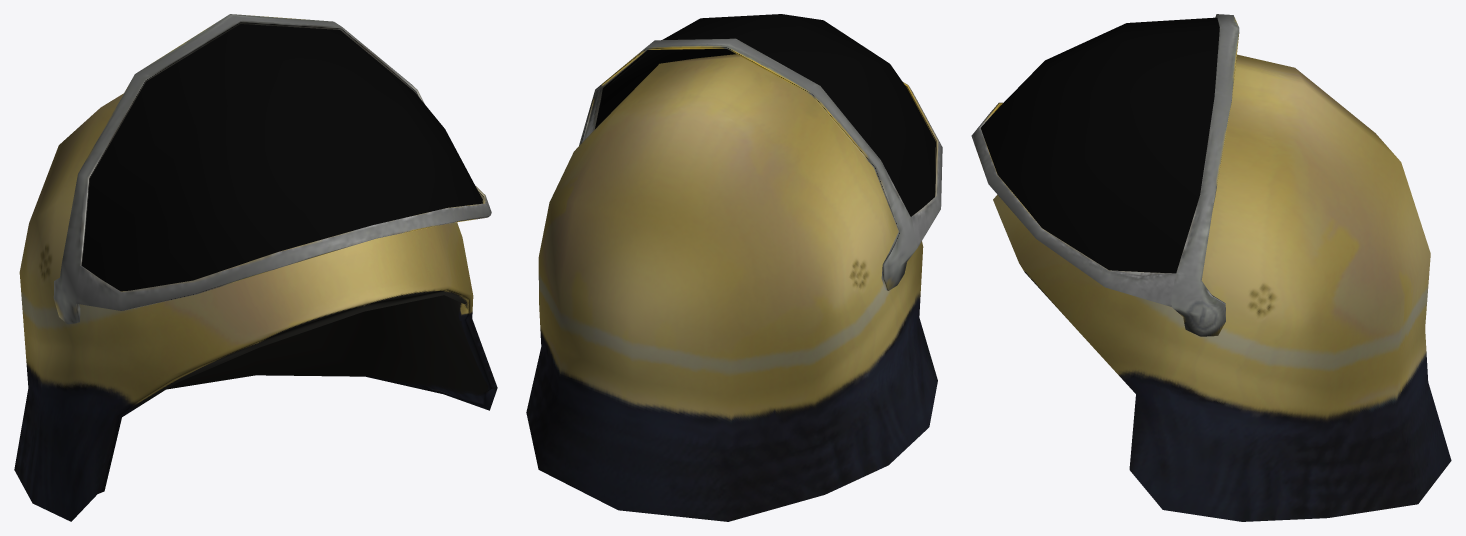
Rendered from helm.fbx.
3 renders of one model, left to right at view 1: azimuth 30°, elevation 25°; view 2: azimuth 150°, elevation 25°; view 3: azimuth 270°, elevation 25°, orthographic. The views are drawn at different scales.
Parts seen in each view (by area): view 1: Mesh; view 2: Mesh; view 3: Mesh.
Part boxes in pixels (box(x1,y1,x2,y2)): Mesh: box(14, 14, 497, 521); Mesh: box(526, 14, 942, 521); Mesh: box(971, 14, 1451, 521).
Bounding box in the file's own units: 33.62 × 35.99 × 36.6.
